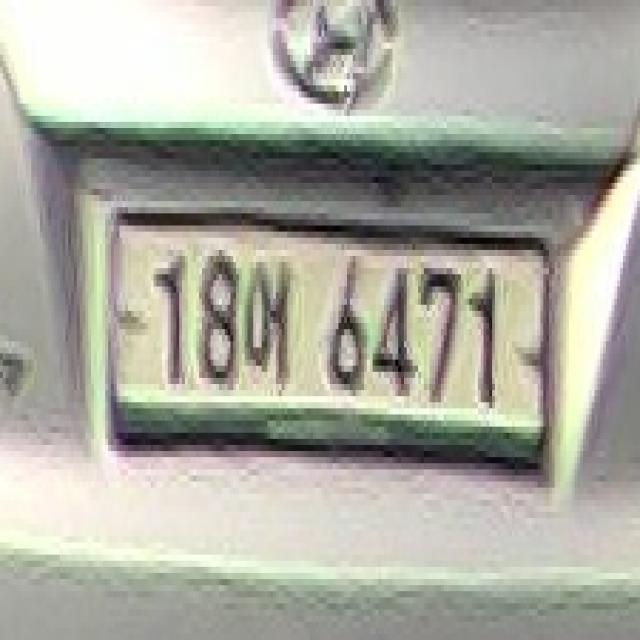1: (466, 262, 504, 445), (154, 238, 188, 402)
4: (370, 262, 418, 415)
6: (327, 244, 370, 402)
7: (418, 250, 464, 427)
8: (193, 244, 242, 402)
license_plate: (105, 207, 555, 488)
meo: (244, 244, 298, 408)
